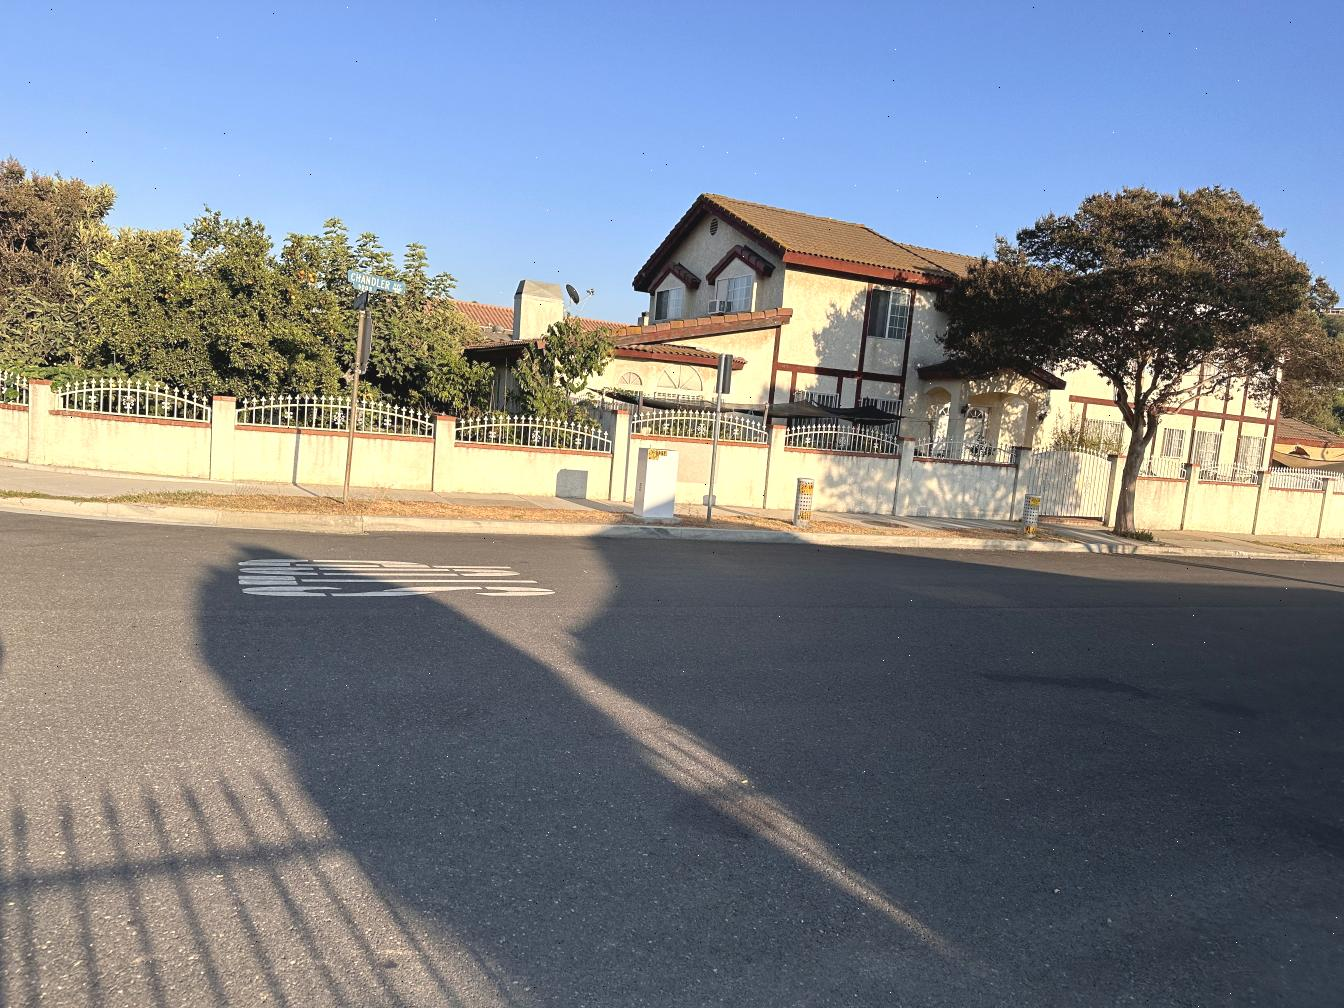curbs-laRr: (8, 493, 163, 519), (460, 520, 641, 541), (295, 514, 451, 536), (649, 523, 804, 544), (167, 504, 289, 529), (809, 529, 946, 552), (951, 537, 1106, 553), (1114, 542, 1238, 560)
